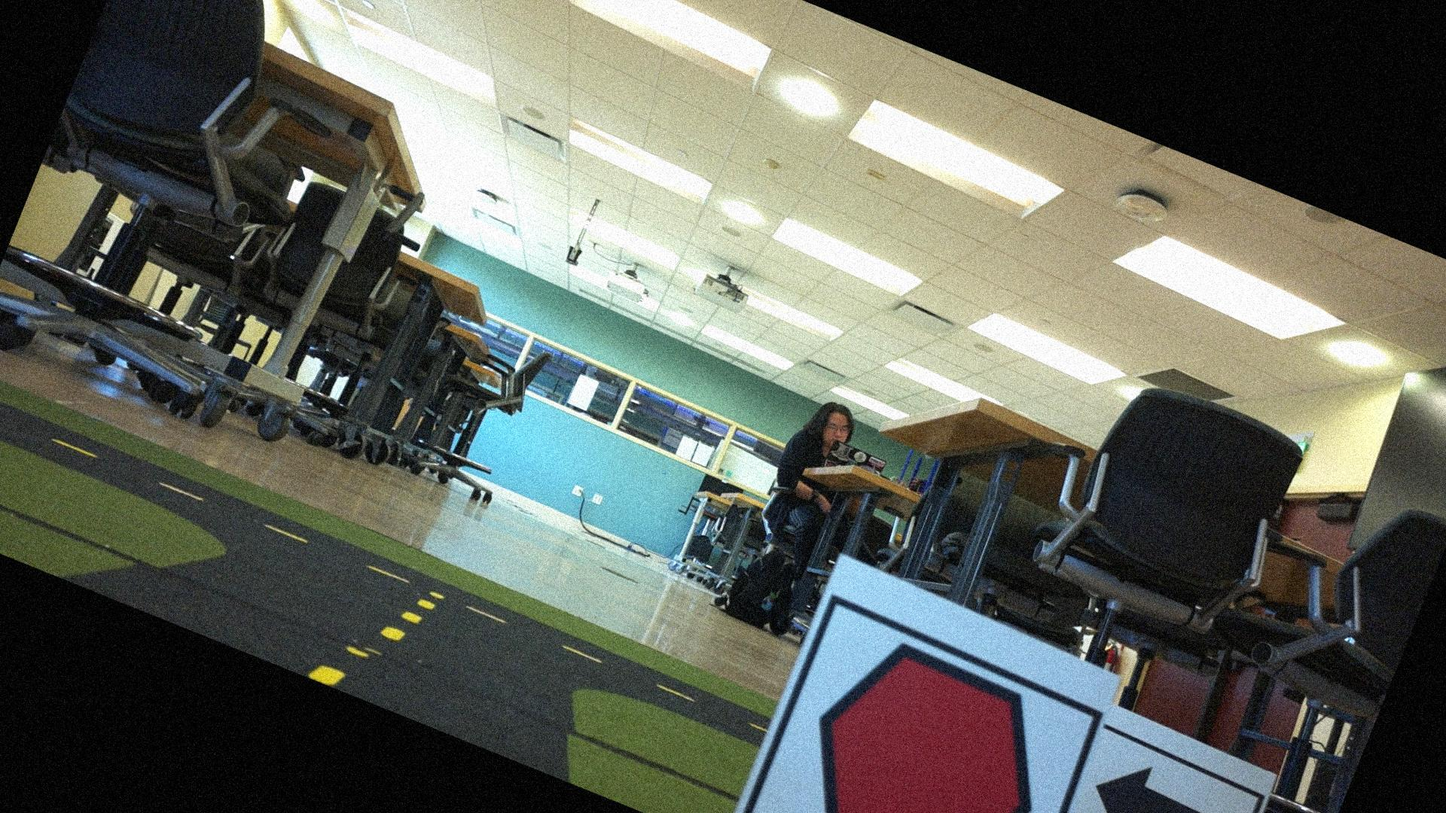stop: (761, 610, 1085, 812)
turnright: (1058, 738, 1259, 812)
yellowline: (305, 568, 432, 710)
